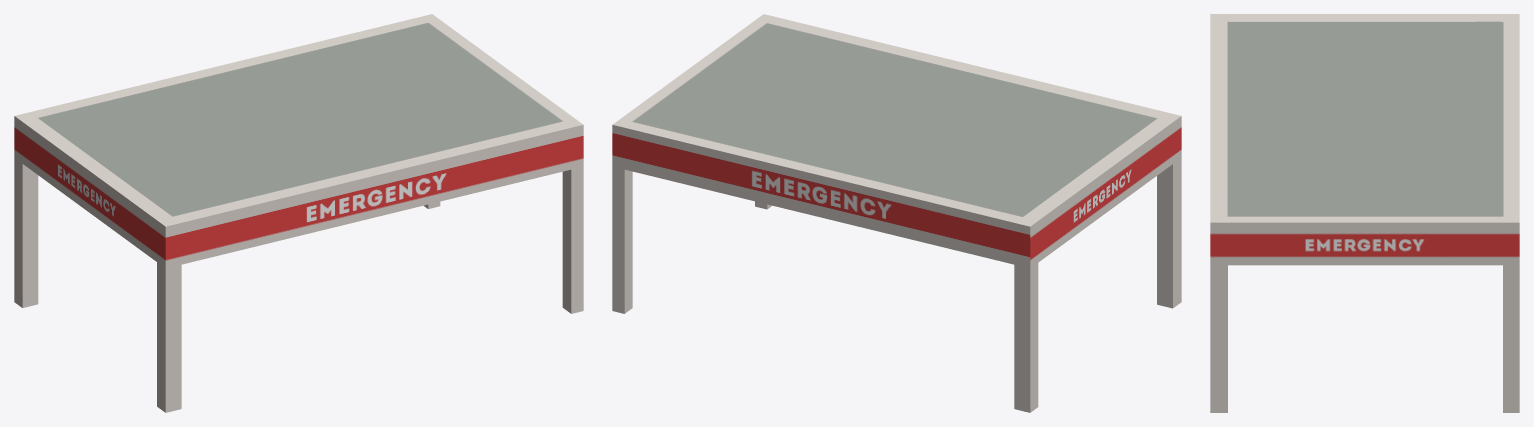
File: hospital-mini.fbx
The picture shows the model from 3 angles, left to right: view 1: azimuth 30°, elevation 25°; view 2: azimuth 150°, elevation 25°; view 3: azimuth 270°, elevation 25°; orthographic projection. The views are drawn at different scales.
Visible parts, largest first — view 1: pCube1905; view 2: pCube1905; view 3: pCube1905.
Boxes of the visible parts, bbox=[...] form: pCube1905: bbox=[14, 14, 583, 412]; pCube1905: bbox=[612, 14, 1181, 412]; pCube1905: bbox=[1210, 14, 1519, 412].
Bounding box in the file's own units: 58.96 × 25.12 × 36.99.
